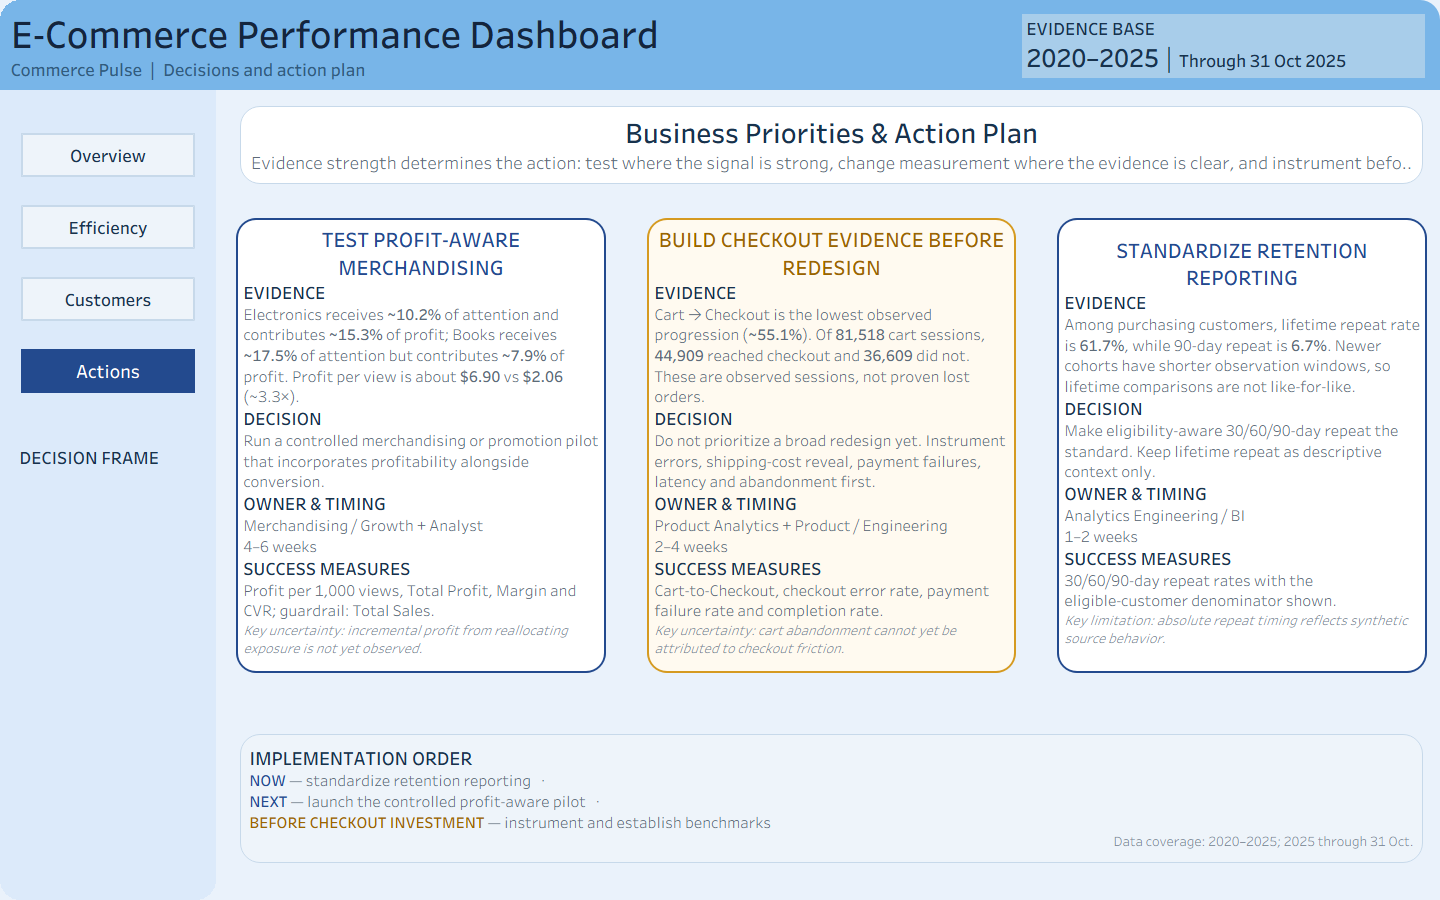

This screenshot's page, from the dashboard's own definition file:
{"tool":"tableau","page":{"name":"Page 4 - Action Plan","canvas":[1440,900],"ordinal":3},"visuals":[{"type":"text","box":[0,0,1008,90]},{"type":"blank","box":[1008,0,432,90]},{"type":"text","box":[1018,10,411,72]},{"type":"blank","box":[0,90,216,810]},{"type":"text","box":[230.4,96,1202.4,97.5]},{"type":"dashboard-object","box":[14.4,126,187.2,58.5]},{"type":"dashboard-object","box":[14.4,198,187.2,58.5]},{"type":"text","box":[230.4,211.5,381.6,468]},{"type":"text","box":[640.8,211.5,381.6,468]},{"type":"text","box":[1051.2,211.5,381.6,468]},{"type":"dashboard-object","box":[14.4,270,187.2,58.5]},{"type":"dashboard-object","box":[14.4,342,187.2,58.5]},{"type":"text","box":[14.4,441,187.2,31.5]},{"type":"text","box":[230.4,724,1202.4,149]}]}

Visuals, with their boxes in screenshot pixels (x1, y1, x2, y2), scaled from the page's 1440x900 canvas onto the 1440x900 screenshot:
text: (0, 0, 1008, 90)
blank: (1008, 0, 1439, 90)
text: (1018, 10, 1429, 82)
blank: (0, 90, 216, 899)
text: (230, 96, 1433, 194)
dashboard-object: (14, 126, 202, 184)
dashboard-object: (14, 198, 202, 256)
text: (230, 212, 612, 680)
text: (641, 212, 1022, 680)
text: (1051, 212, 1433, 680)
dashboard-object: (14, 270, 202, 328)
dashboard-object: (14, 342, 202, 400)
text: (14, 441, 202, 472)
text: (230, 724, 1433, 873)
